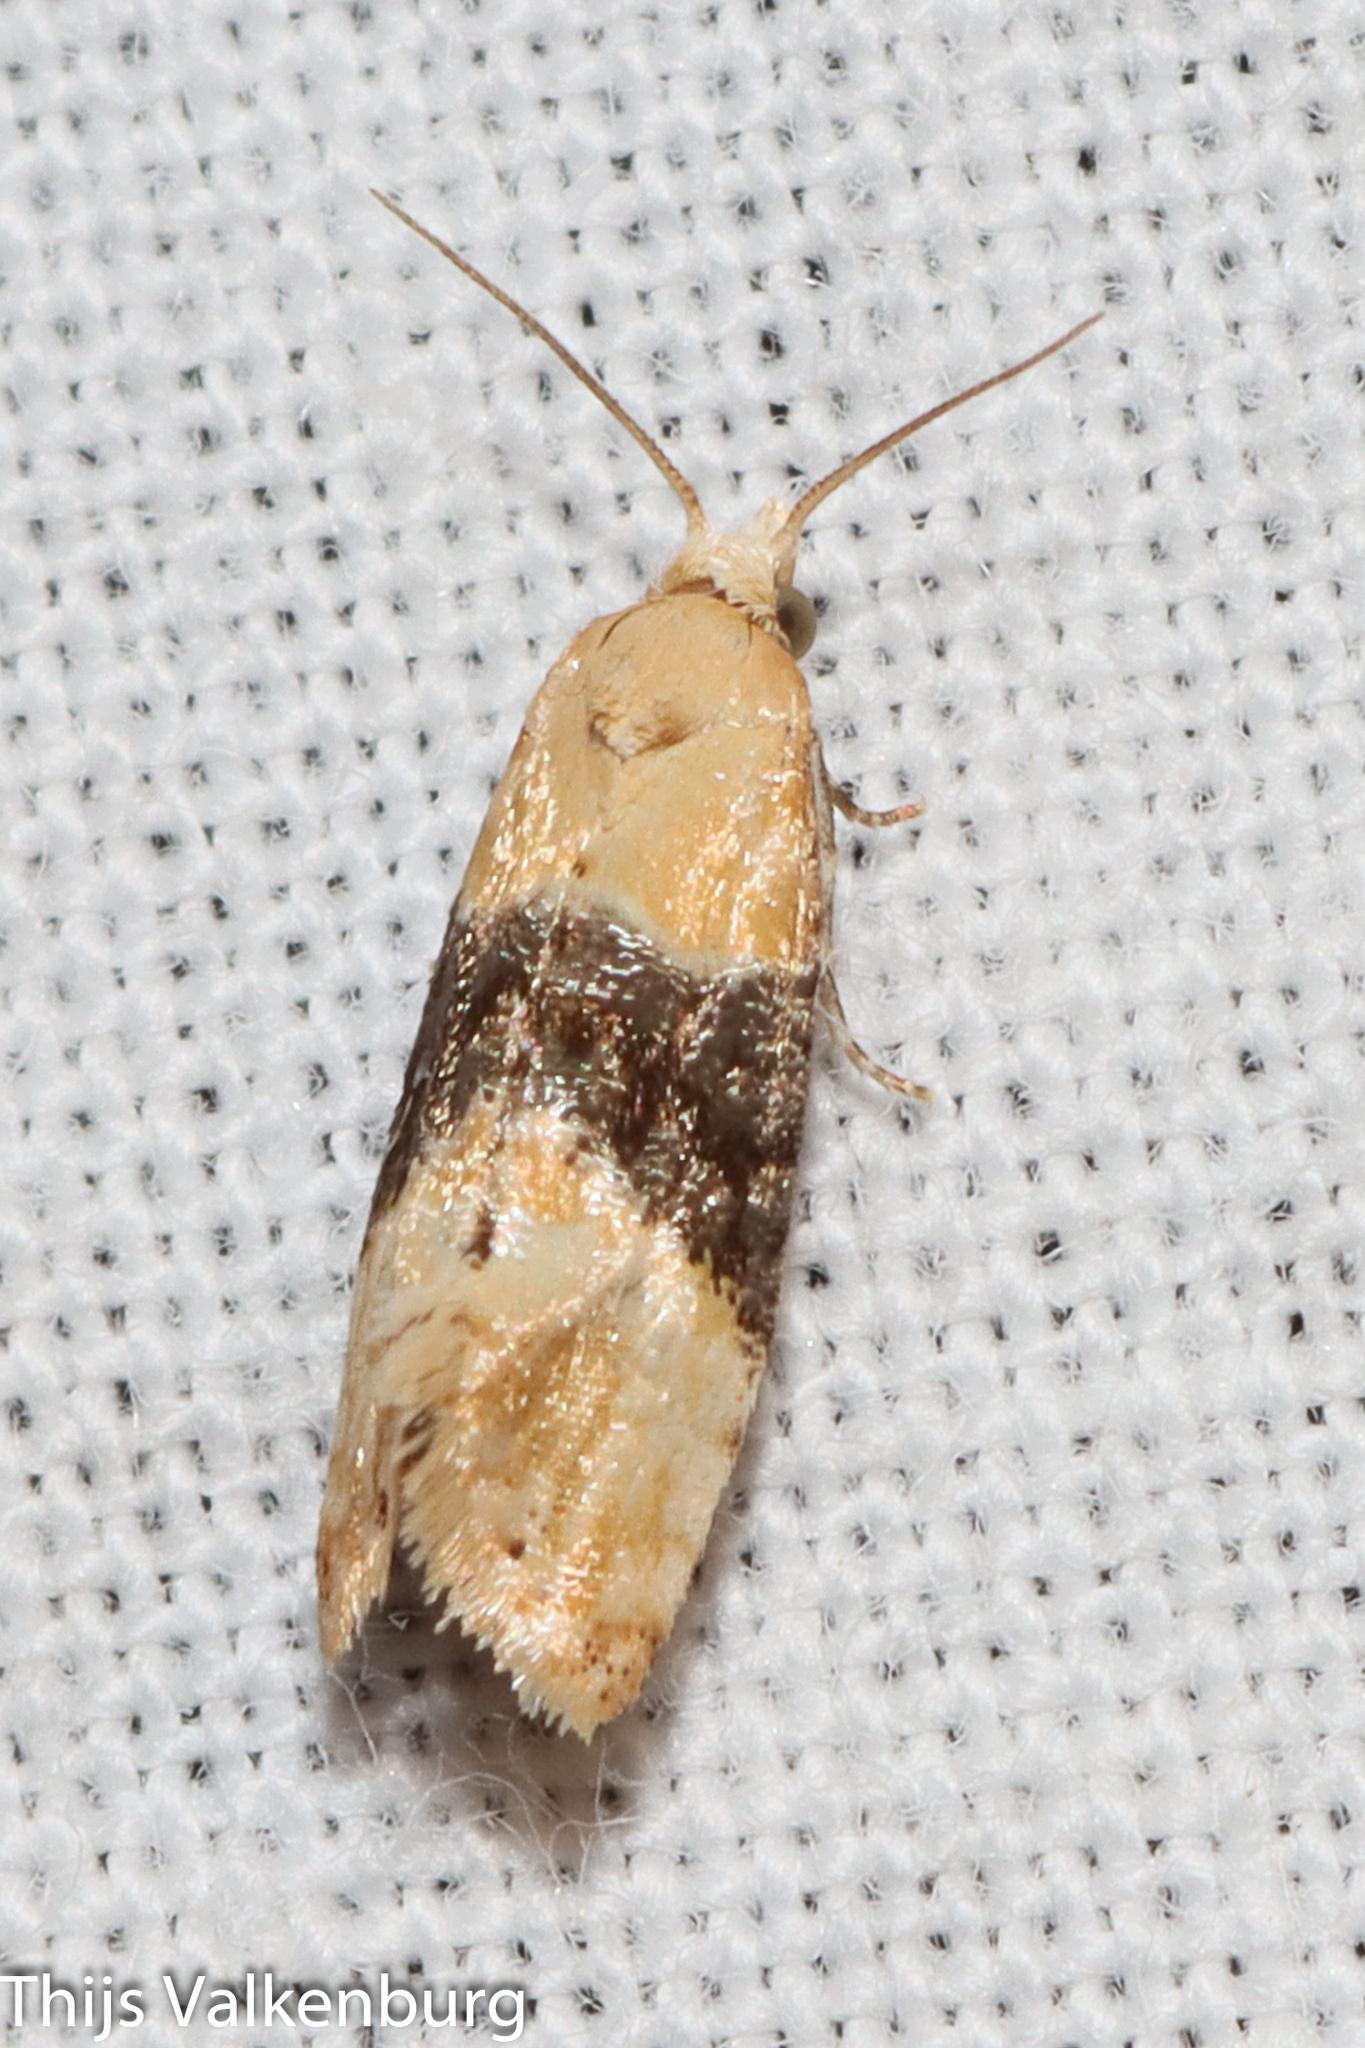Eupoecilia Ambiguella: (309, 183, 1111, 1747)
